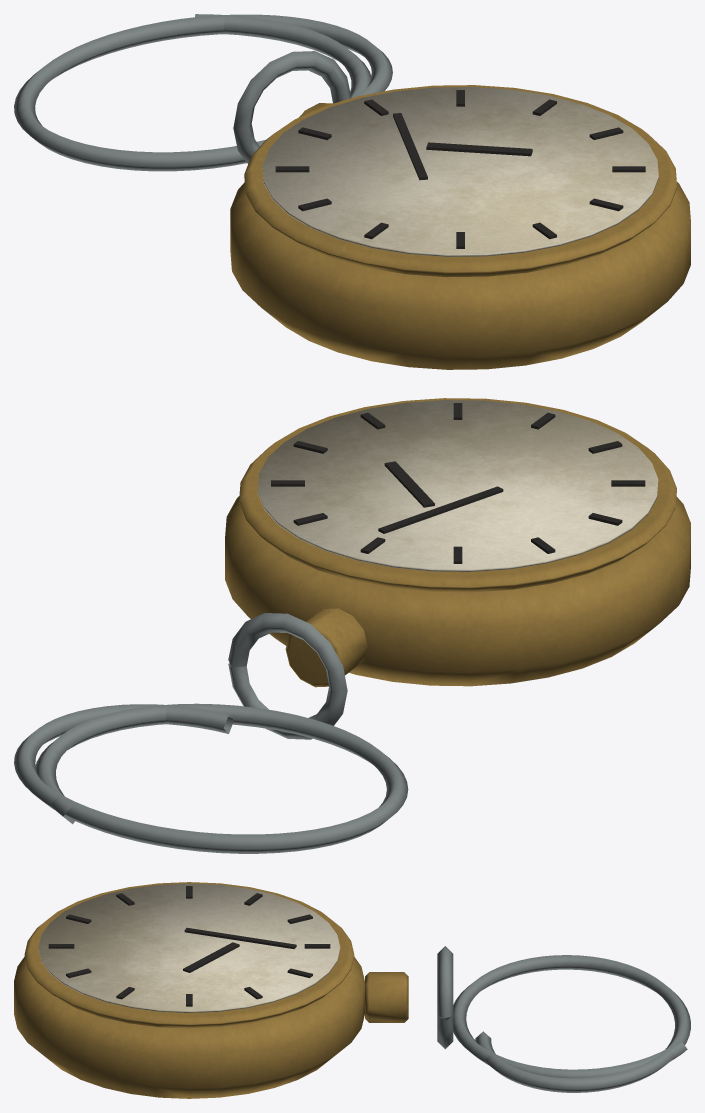
The model's file is prop_pocket_watch_01.gltf.
The picture shows the model from 3 angles, top to bottom: view 1: azimuth 30°, elevation 25°; view 2: azimuth 150°, elevation 25°; view 3: azimuth 270°, elevation 25°; orthographic projection. The views are drawn at different scales.
Parts seen in each view (by area): view 1: prop_pocket_watch_01_item_atlas_01; view 2: prop_pocket_watch_01_item_atlas_01; view 3: prop_pocket_watch_01_item_atlas_01.
Boxes of the visible parts, x1,y1,x2,y2 form: prop_pocket_watch_01_item_atlas_01: (14, 14, 690, 369); prop_pocket_watch_01_item_atlas_01: (14, 398, 690, 853); prop_pocket_watch_01_item_atlas_01: (14, 882, 690, 1098).
Size of the model in its own units: 0.048 by 0.0153 by 0.0926.
Materials: 1 (1 with a texture image).
